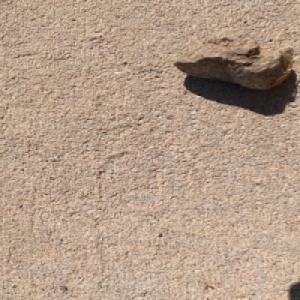Rock: (172, 26, 296, 89)
